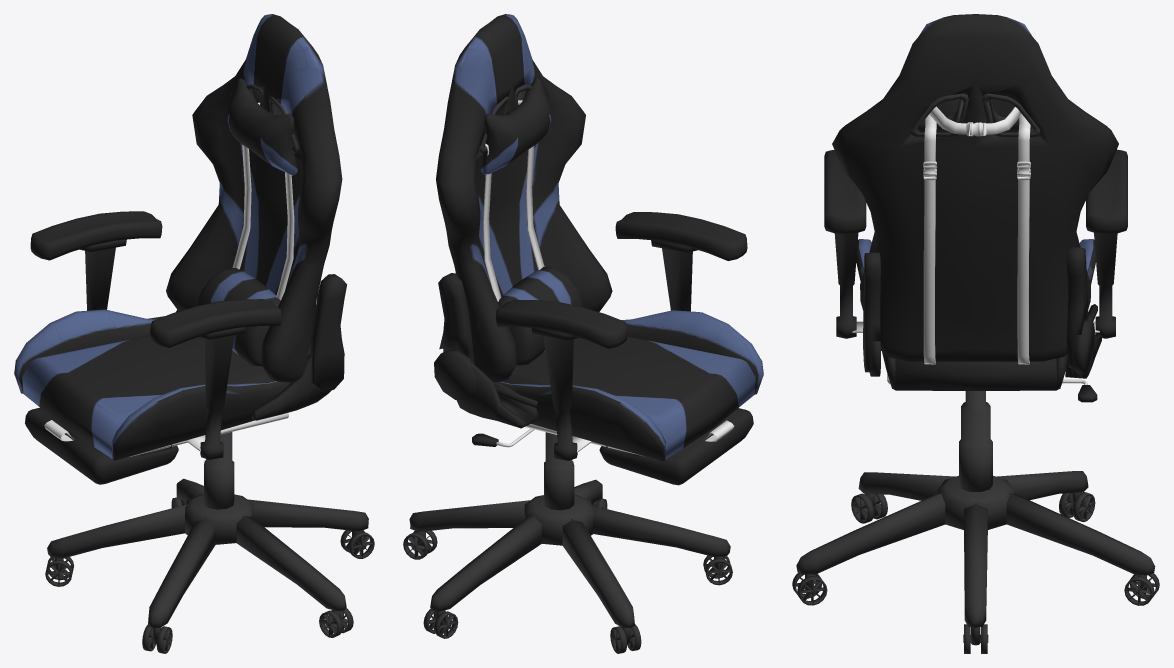
File: bangku001.fbx
3 renders of one model, left to right at view 1: azimuth 30°, elevation 25°; view 2: azimuth 150°, elevation 25°; view 3: azimuth 270°, elevation 25°, orthographic. The views are drawn at different scales.
Parts seen in each view (by area): view 1: neck_pillow_Plane.007; view 2: neck_pillow_Plane.007; view 3: neck_pillow_Plane.007.
Part boxes in pixels (<box>): neck_pillow_Plane.007: <box>14,14,374,653</box>; neck_pillow_Plane.007: <box>403,14,763,653</box>; neck_pillow_Plane.007: <box>792,14,1159,653</box>.
Bounding box in the file's own units: 99.27 × 164 × 91.2.
6 materials, 1 textured.
